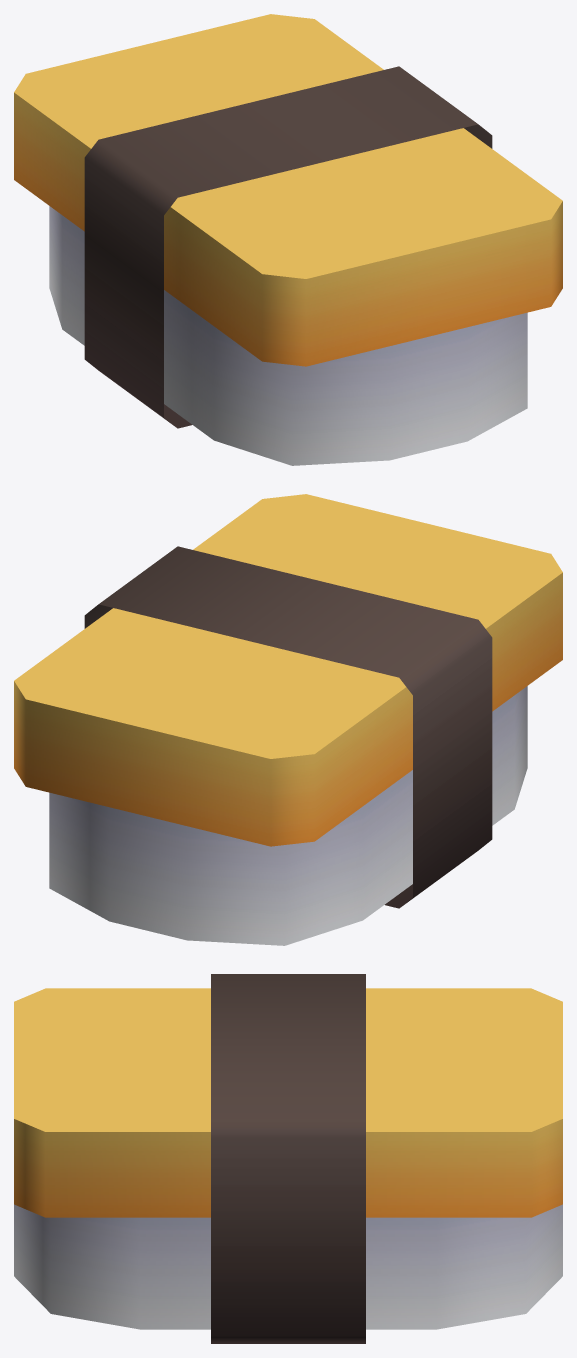
The model's file is sushi-egg.glb.
3 views of the same model, one above another, from view 1: azimuth 30°, elevation 25°; view 2: azimuth 150°, elevation 25°; view 3: azimuth 270°, elevation 25° (orthographic). The views are drawn at different scales.
Parts seen in each view (by area): view 1: sushi-egg; view 2: sushi-egg; view 3: sushi-egg.
Part boxes in pixels (x1=…): sushi-egg: x1=14, y1=14, x2=562, y2=465; sushi-egg: x1=14, y1=494, x2=562, y2=945; sushi-egg: x1=14, y1=974, x2=562, y2=1343.
Bounding box in the file's own units: 0.1179 × 0.0792 × 0.1743.
Materials: 1 (1 with a texture image).
